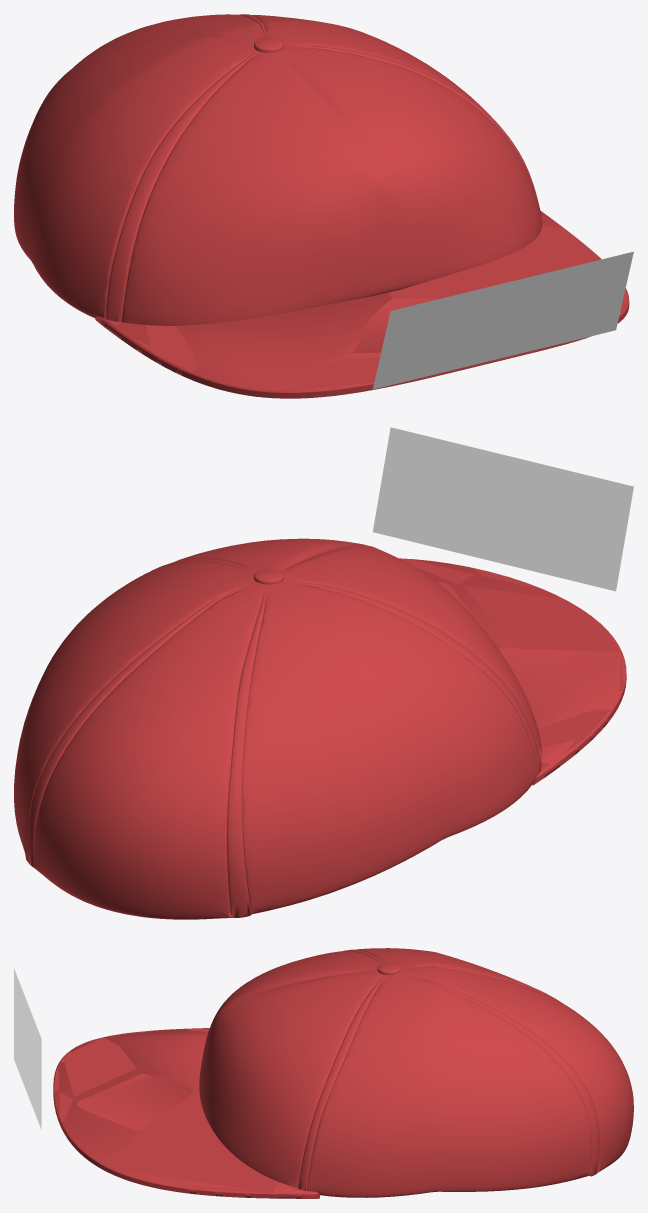
Rendered from cap_source.glb.
The picture shows the model from 3 angles, top to bottom: view 1: azimuth 30°, elevation 25°; view 2: azimuth 150°, elevation 25°; view 3: azimuth 270°, elevation 25°; orthographic projection. The views are drawn at different scales.
Parts seen in each view (by area): view 1: cap_crown, cap_label; view 2: cap_crown, cap_label; view 3: cap_crown, cap_label.
Part boxes in pixels (x1,y1,x2,y2): cap_crown: (14,14,629,398); cap_label: (372,251,633,389); cap_crown: (14,538,626,919); cap_label: (373,427,633,591); cap_crown: (53,948,633,1198); cap_label: (14,968,41,1129).
Bounding box in the file's own units: 0.6233 × 0.2988 × 0.9734.
